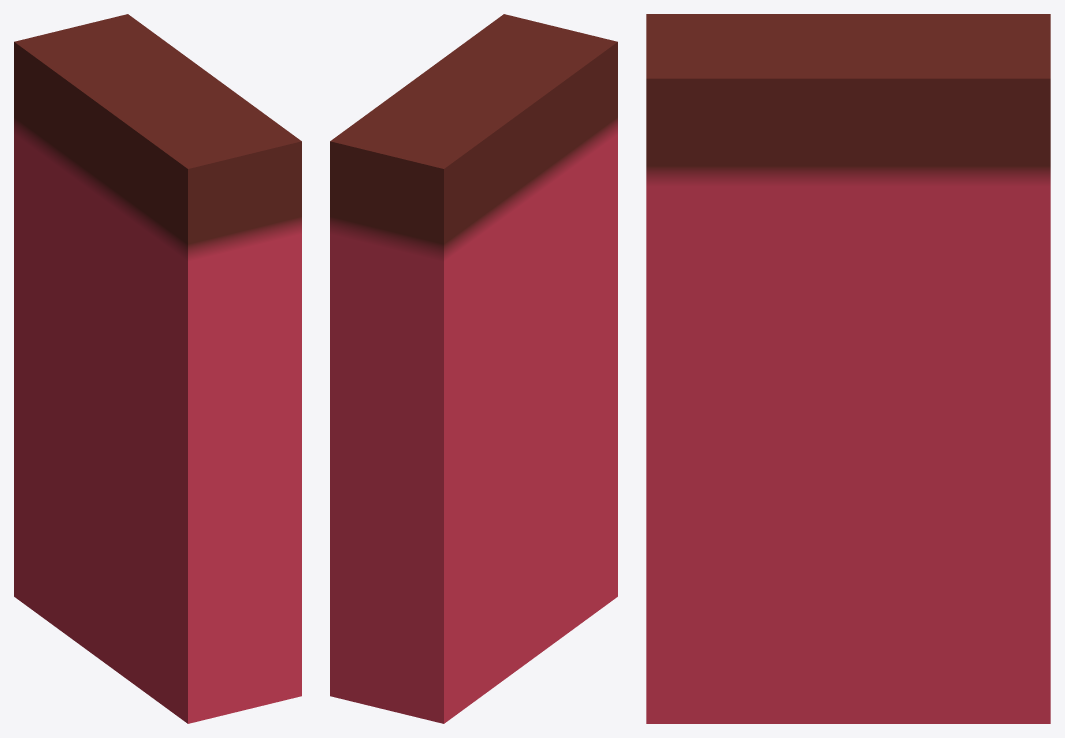
File: Itr_Obj_Book2_01.FBX
3 views of the same model, side by side, from view 1: azimuth 30°, elevation 25°; view 2: azimuth 150°, elevation 25°; view 3: azimuth 270°, elevation 25° (orthographic). The views are drawn at different scales.
Parts seen in each view (by area): view 1: Itr_Obj_Book2_01; view 2: Itr_Obj_Book2_01; view 3: Itr_Obj_Book2_01.
Boxes of the visible parts, x1,y1,x2,y2 form: Itr_Obj_Book2_01: [14, 14, 301, 723]; Itr_Obj_Book2_01: [330, 14, 617, 723]; Itr_Obj_Book2_01: [646, 14, 1050, 723].
Bounding box in the file's own units: 2.14 × 9.98 × 5.67.
